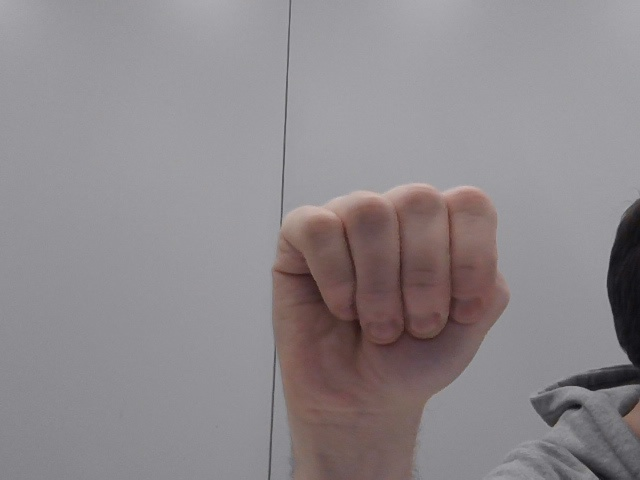down: (250, 161, 524, 423)
